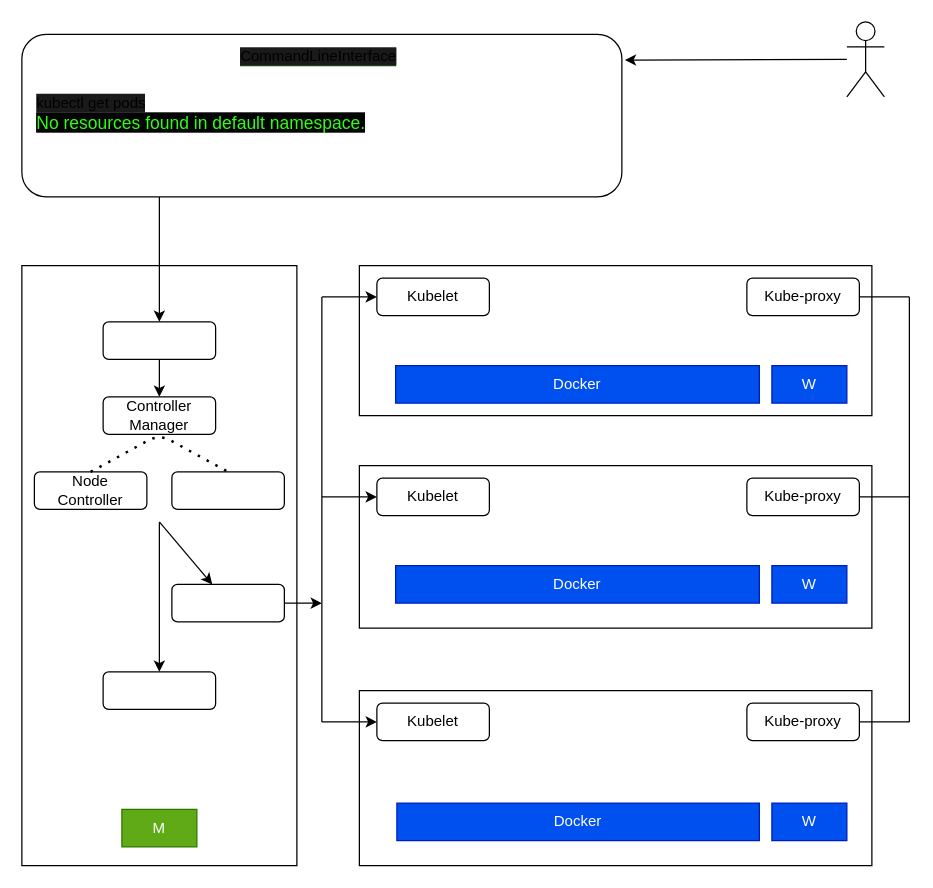
This 933x888 diagram has some shape labels left out. Each missing label, with the centre of its shape:
Admin: the point at 865,59
ETCD: the point at 159,690
kube-api-server: the point at 159,340
Replication Controller: the point at 227,490
Scheduler: the point at 227,602
